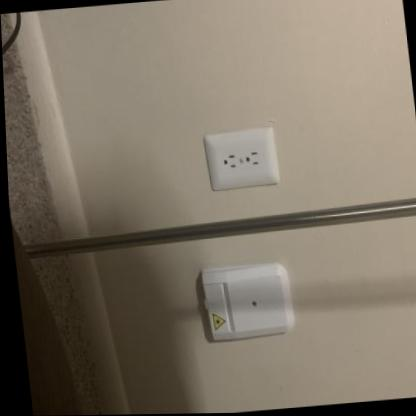OUTLET: (203, 126, 280, 191)
